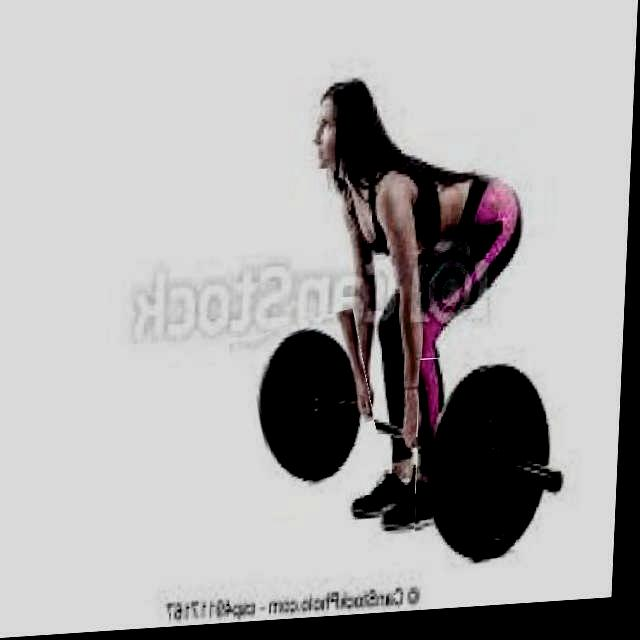barbell: (417, 355, 580, 580), (236, 317, 385, 507)
